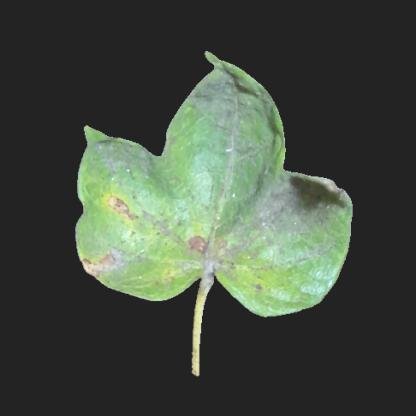curl_stage1: (151, 220, 197, 291), (226, 248, 286, 299), (103, 183, 149, 237), (198, 207, 229, 267)
healthy: (143, 152, 220, 198), (308, 248, 334, 296)
sooty: (200, 87, 274, 153), (258, 192, 335, 239), (267, 177, 337, 227)
